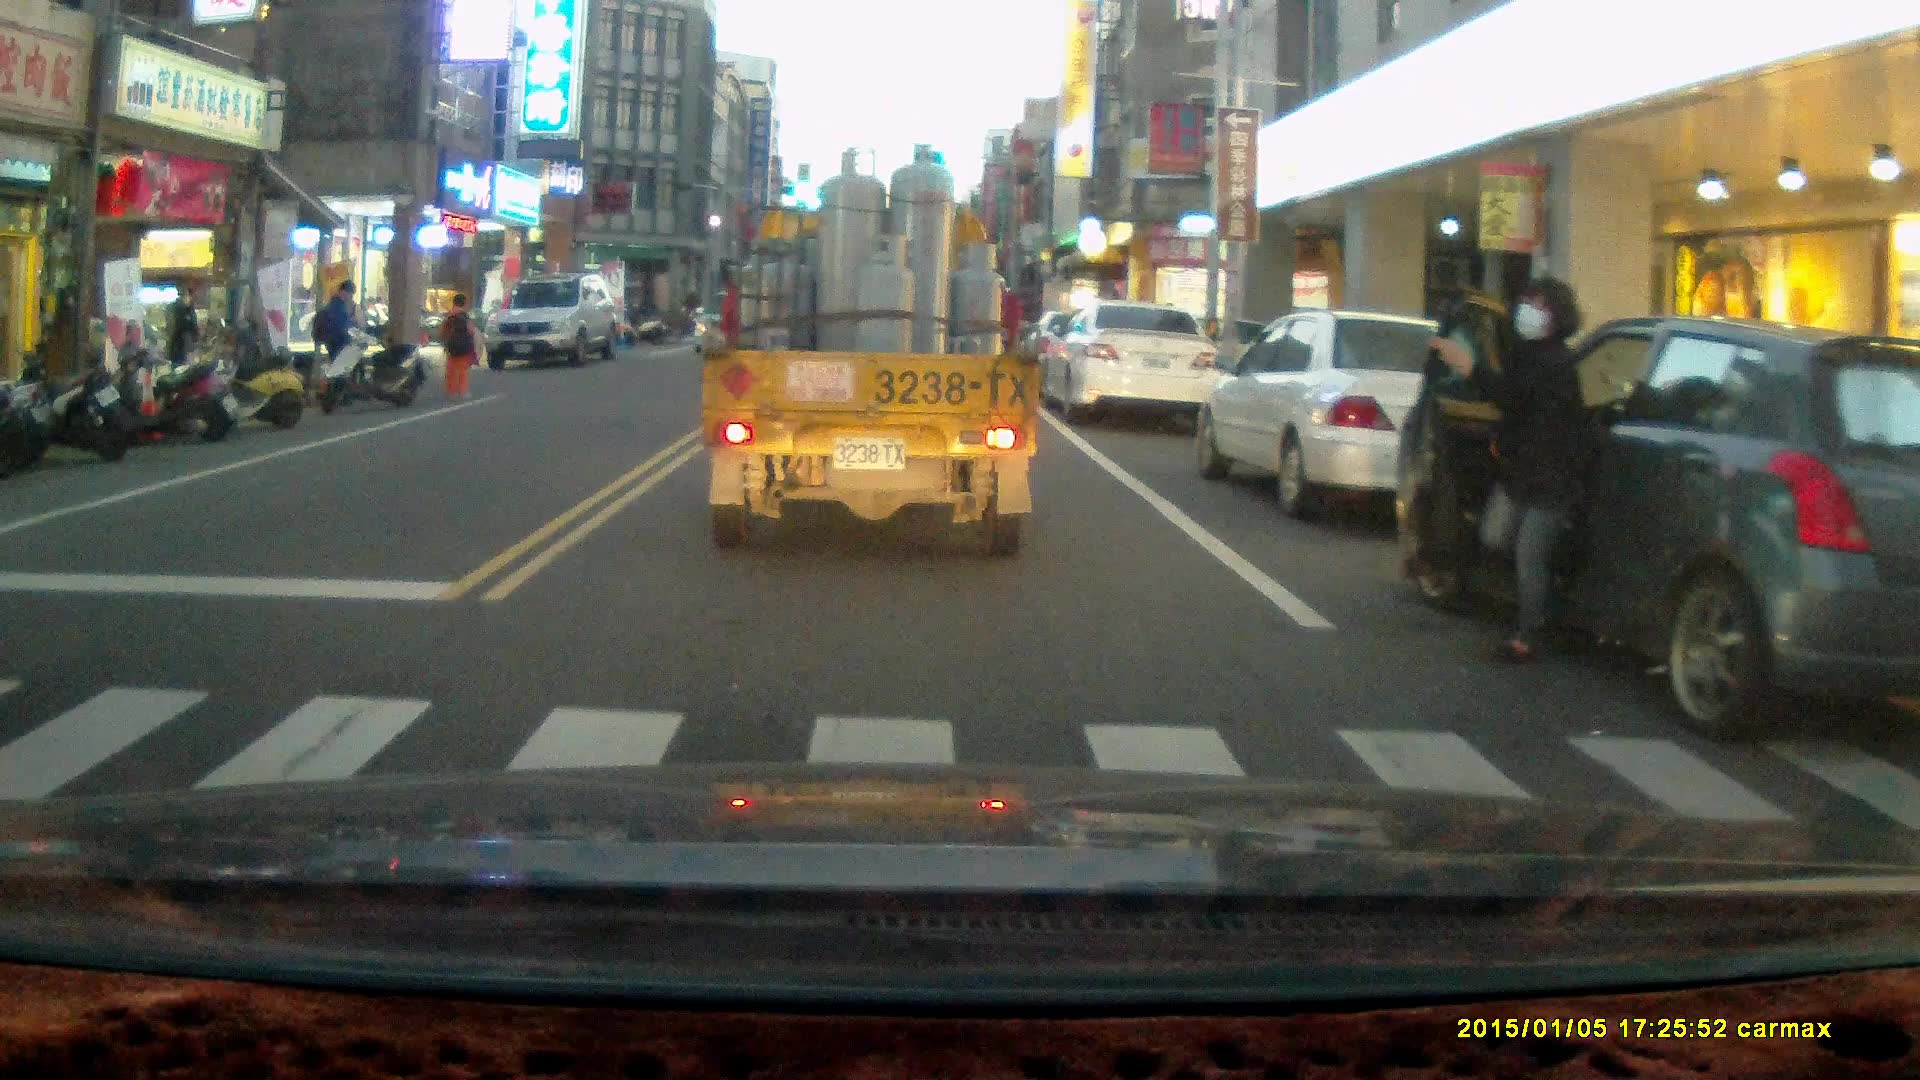pedestrian: (1426, 274, 1592, 670), (310, 278, 358, 400), (163, 285, 203, 408), (438, 291, 477, 395)
vehicle: (1406, 318, 1920, 733), (697, 138, 1049, 562), (1203, 315, 1551, 522), (1052, 303, 1233, 426), (486, 281, 623, 372)
